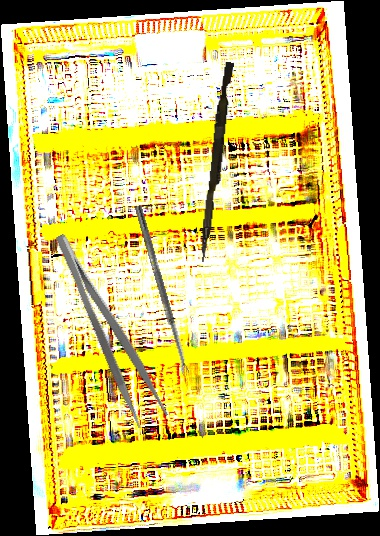Dressing Forceps: (50, 224, 170, 430)
Pusher: (199, 61, 234, 263)
Surgical Spoon: (133, 204, 190, 376)
